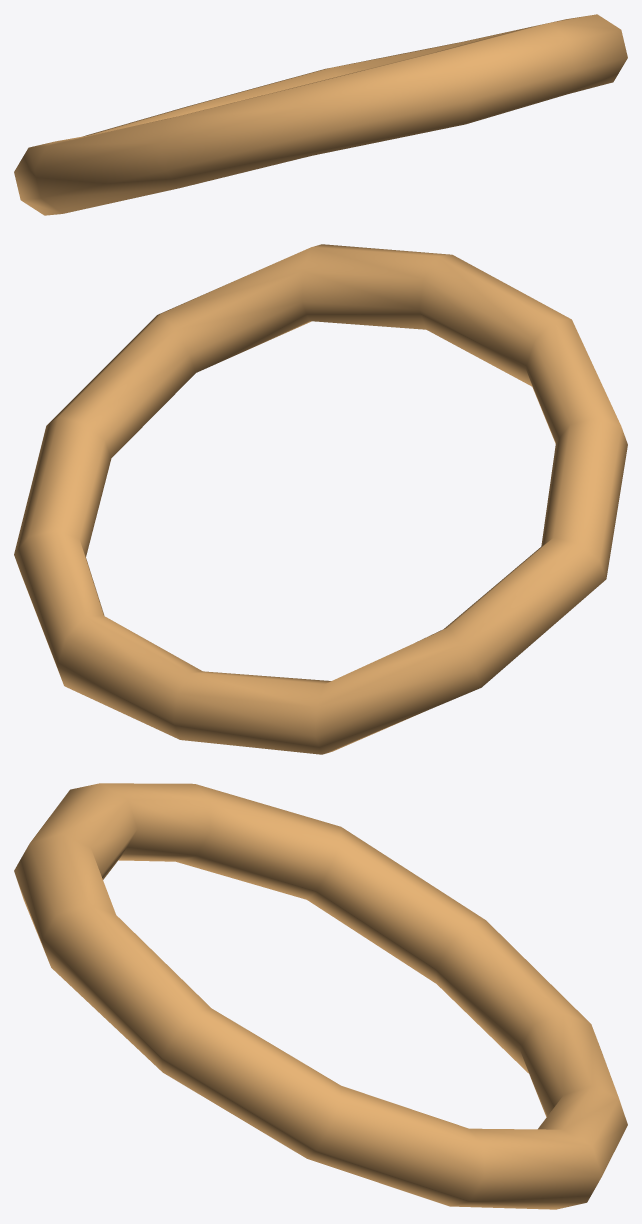
The model's file is SM_PadLockKey_Middle.fbx.
The picture shows the model from 3 angles, top to bottom: view 1: azimuth 30°, elevation 25°; view 2: azimuth 150°, elevation 25°; view 3: azimuth 270°, elevation 25°; orthographic projection. The views are drawn at different scales.
Parts seen in each view (by area): view 1: SM_PadLockKey_Middle; view 2: SM_PadLockKey_Middle; view 3: SM_PadLockKey_Middle.
Part boxes in pixels (x1,y1,x2,y2): SM_PadLockKey_Middle: (14, 14, 627, 215); SM_PadLockKey_Middle: (14, 244, 627, 754); SM_PadLockKey_Middle: (14, 783, 627, 1209).
Size of the model in its own units: 6.36 by 3.33 by 5.7.
